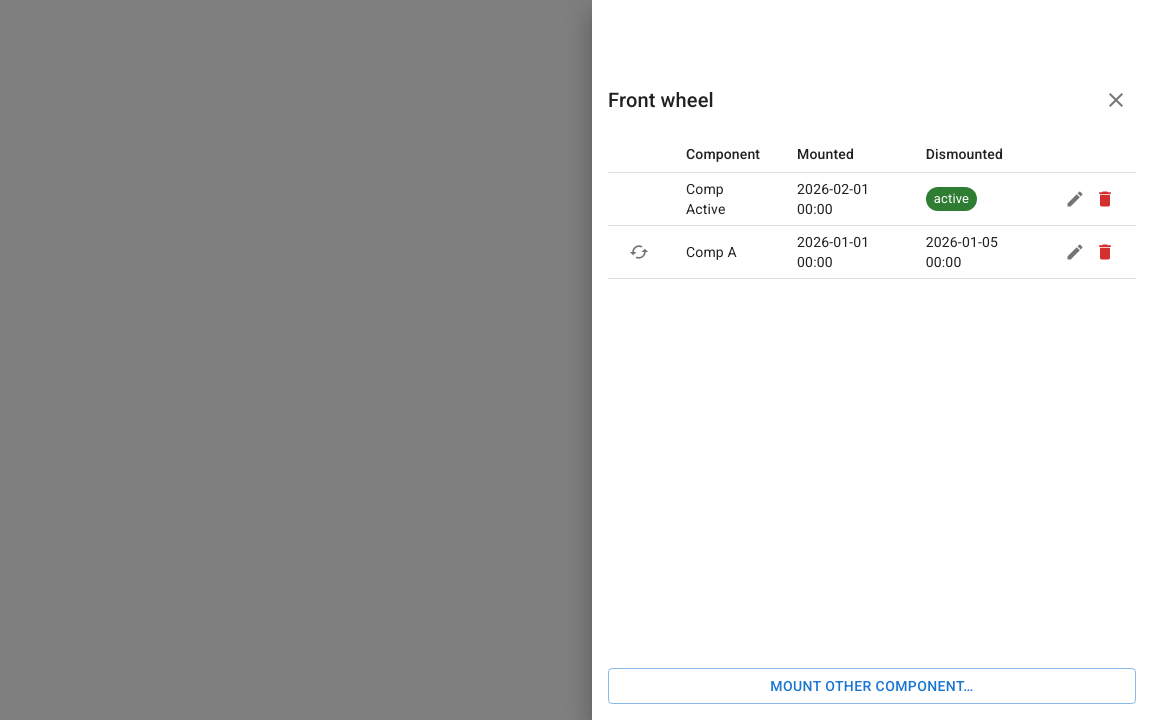
Test: MountPointHistoryDrawer › clicking re-use opens the re-mount dialog with warning when occupied
Click the button named "re-use" at (639,252), box [624,237,654,267]
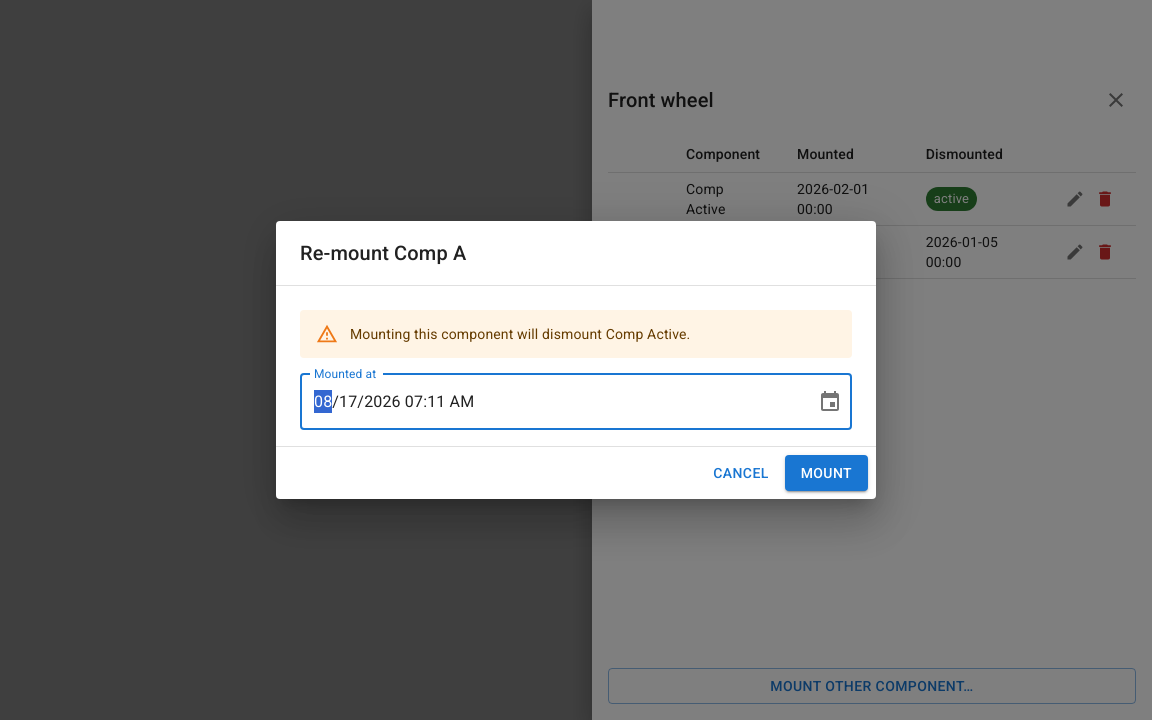
Now the heading "Re-mount Comp A" is shown, box [300,241,466,265]
Now the text "Mounting this component will dismount Comp Active." is shown, box [350,326,690,342]
